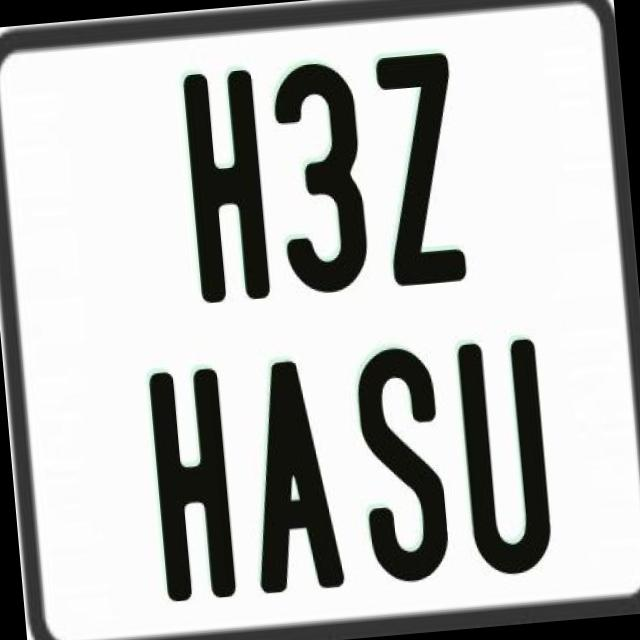3: (271, 56, 374, 296)
A: (240, 356, 352, 592)
H: (147, 366, 240, 606), (180, 66, 272, 306)
S: (349, 339, 450, 587)
U: (453, 335, 557, 576)
Z: (373, 46, 473, 286)
